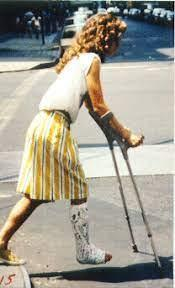crutches: (0, 12, 164, 278)
